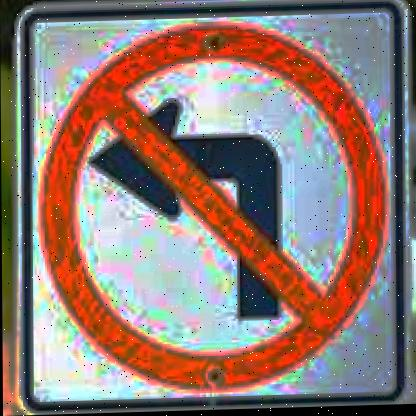No left turn: (36, 20, 389, 386)
